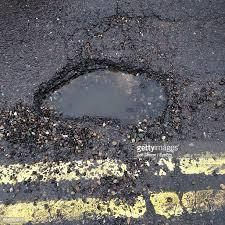pothole: (39, 59, 179, 132)
